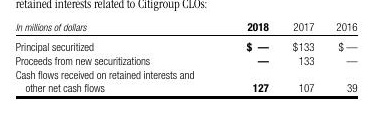table: (0, 0, 380, 116)
